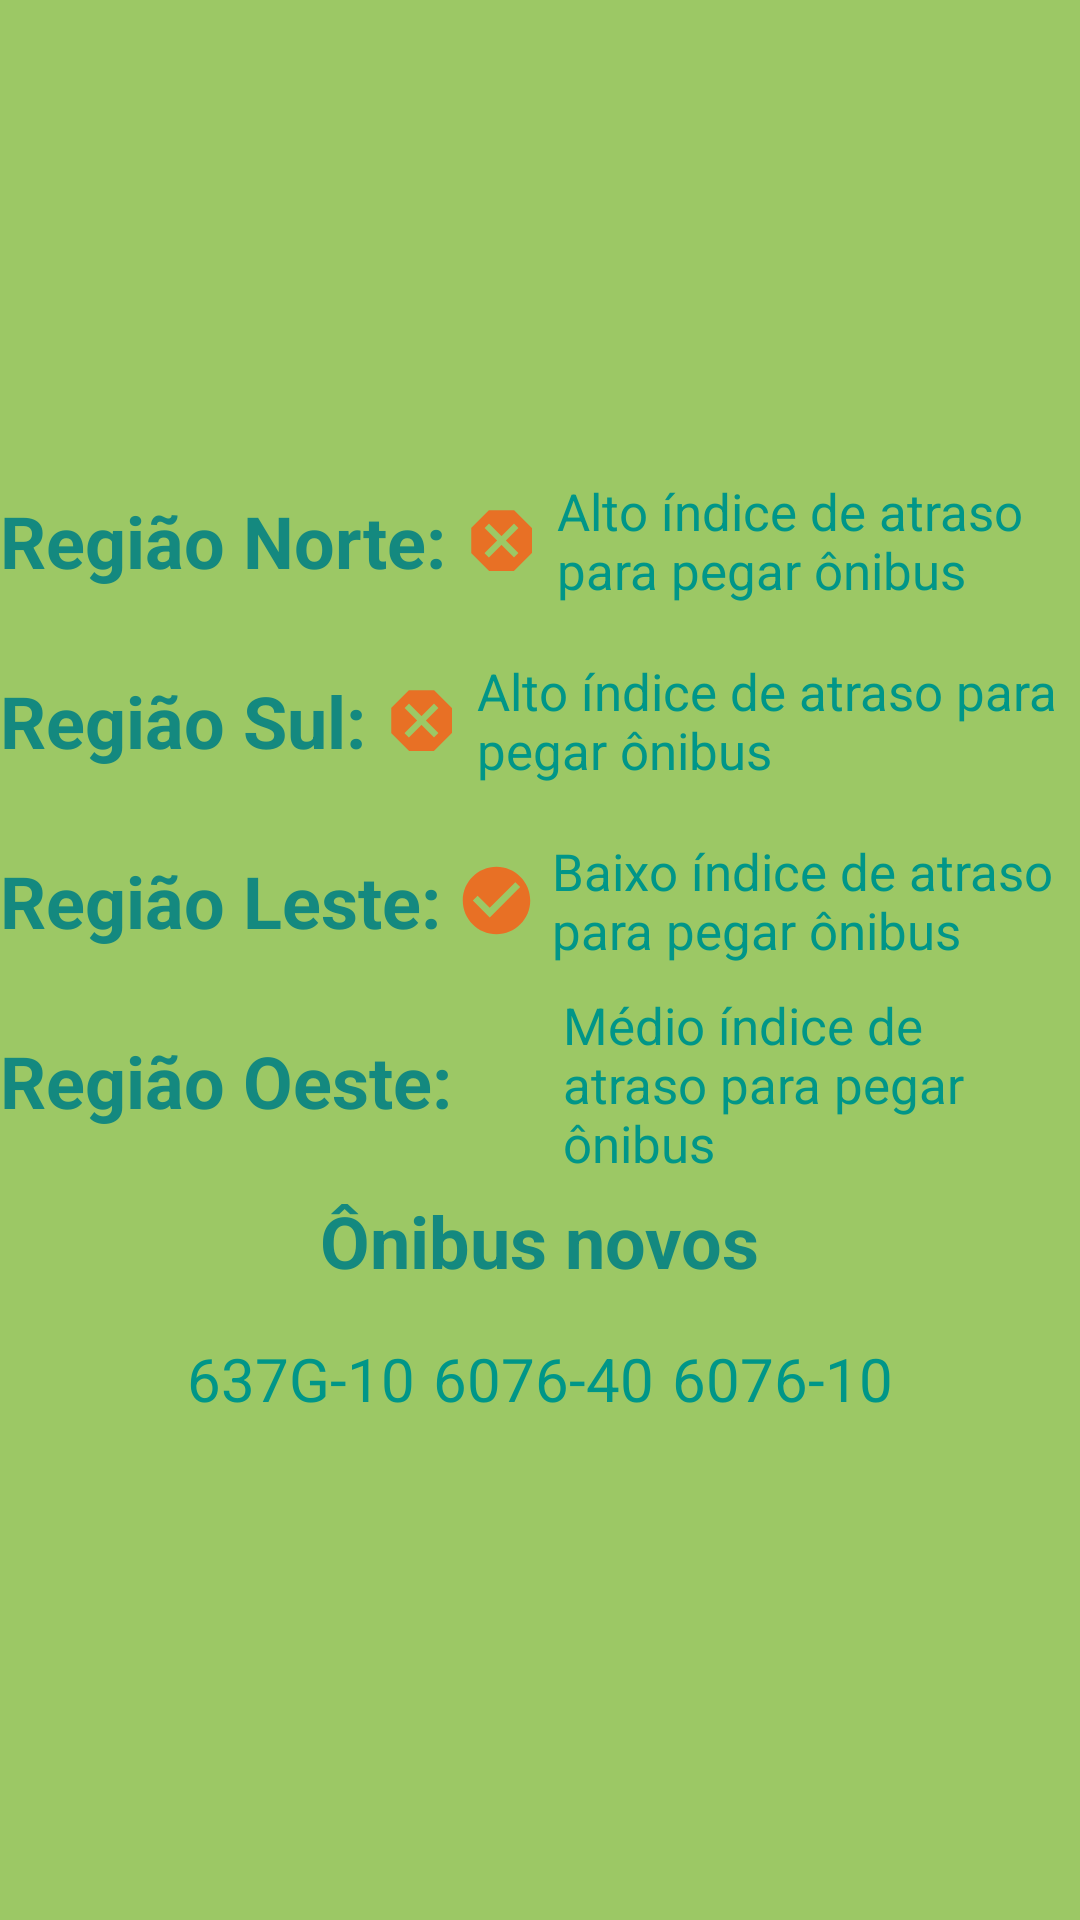

Where to tap for icons on this 1080×1920 app screen, as (x=x, y=y):
check circle: (x=496, y=900)
dangerous: (x=501, y=540), (x=421, y=720)
